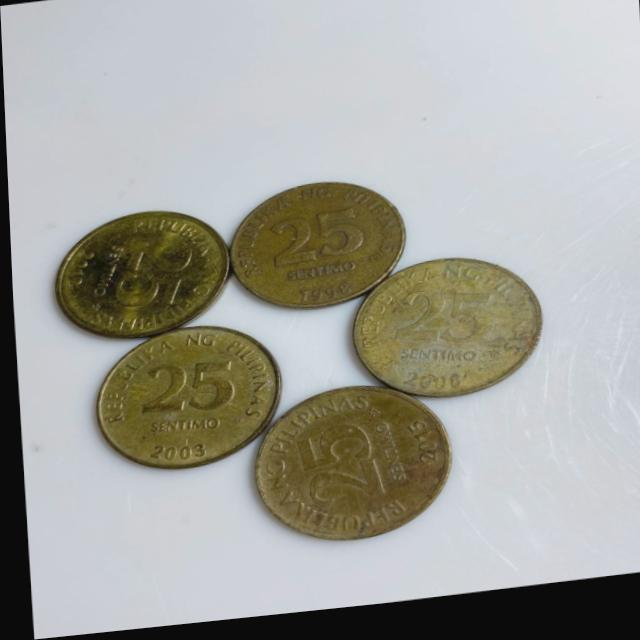25Cent_Old_Front: (288, 425, 386, 515), (390, 287, 496, 364), (137, 355, 236, 426), (266, 211, 367, 266), (111, 242, 188, 312)
